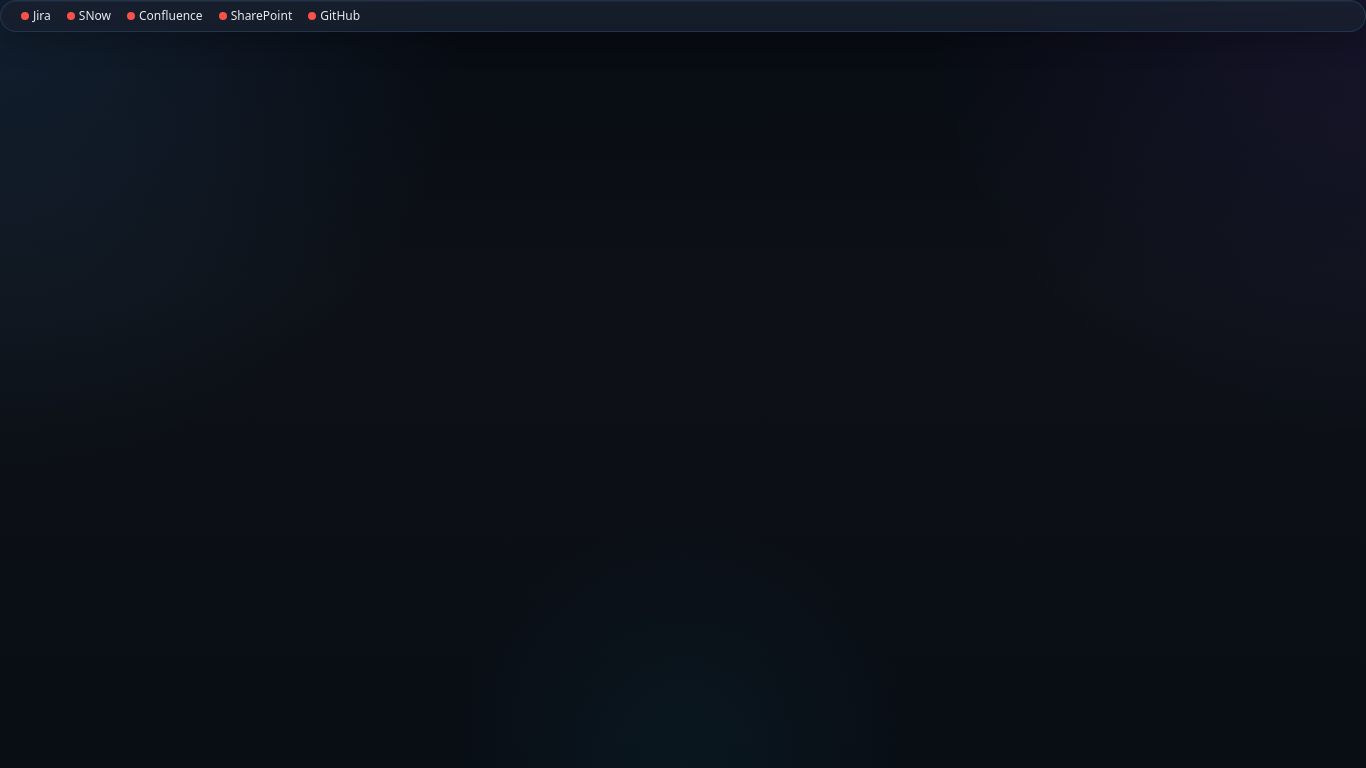
Test: ConnectionBar › opens the GitHub panel when the GitHub indicator is clicked
Click the button "GitHub" at (334, 16), box x1=304 y1=5 x2=364 y2=27
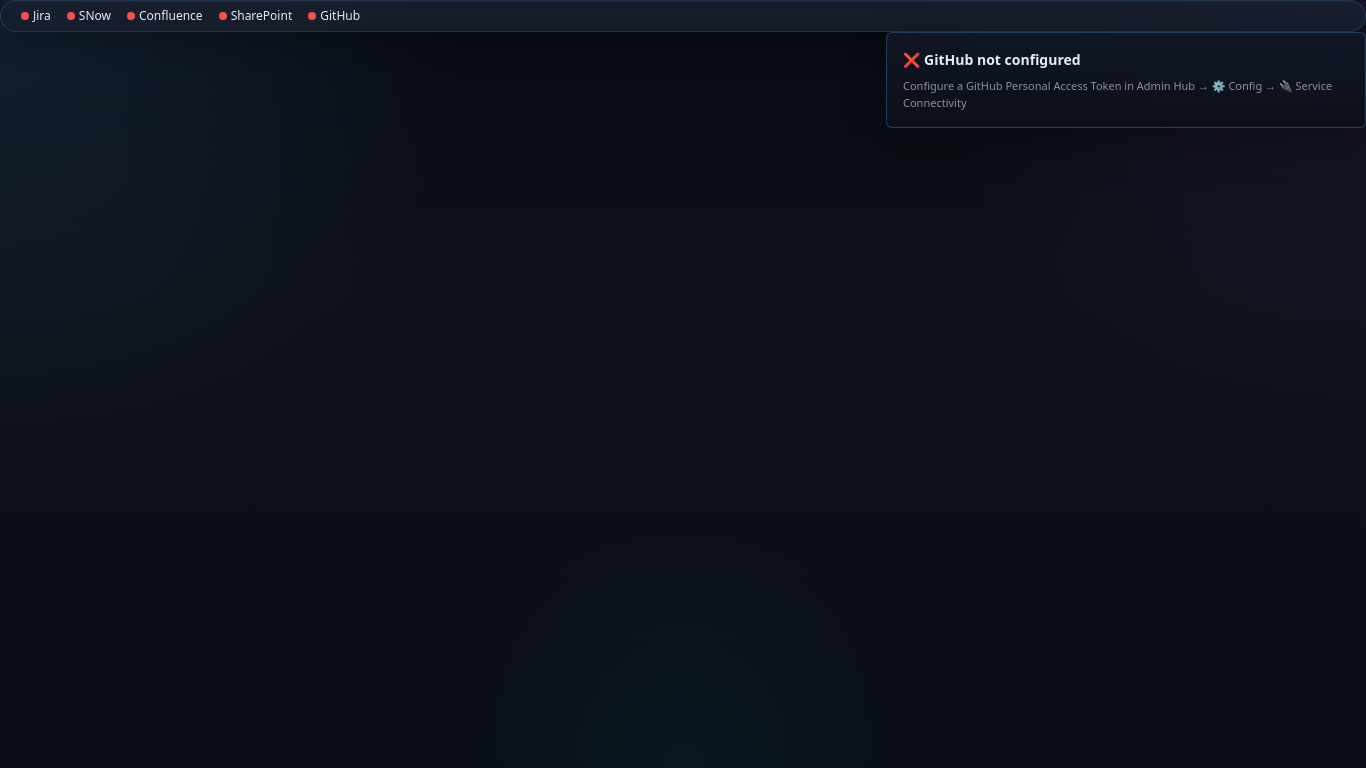
Check: the element named "Connection details" is shown, box x1=886 y1=32 x2=1365 y2=128
